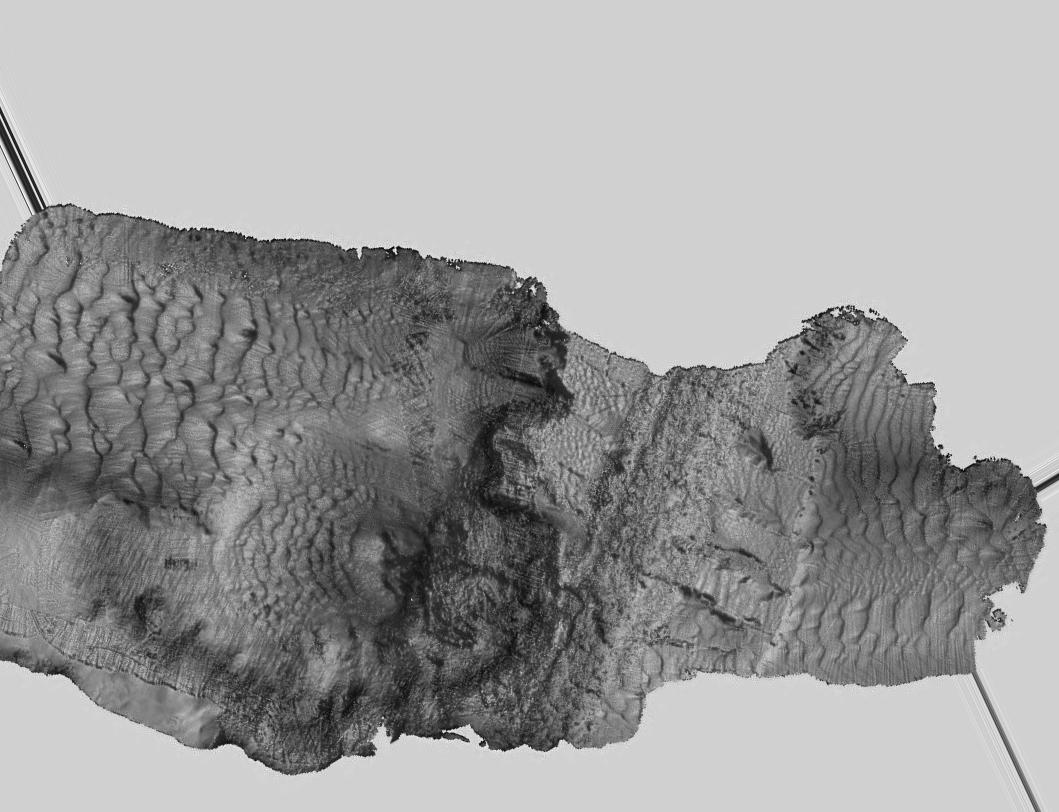Dune: (8, 266, 414, 409), (824, 299, 973, 649), (5, 407, 386, 495), (223, 495, 337, 622)
Scarp: (7, 653, 580, 812)
Scour pit: (338, 516, 468, 636)
Submerged dike: (571, 359, 692, 785)
